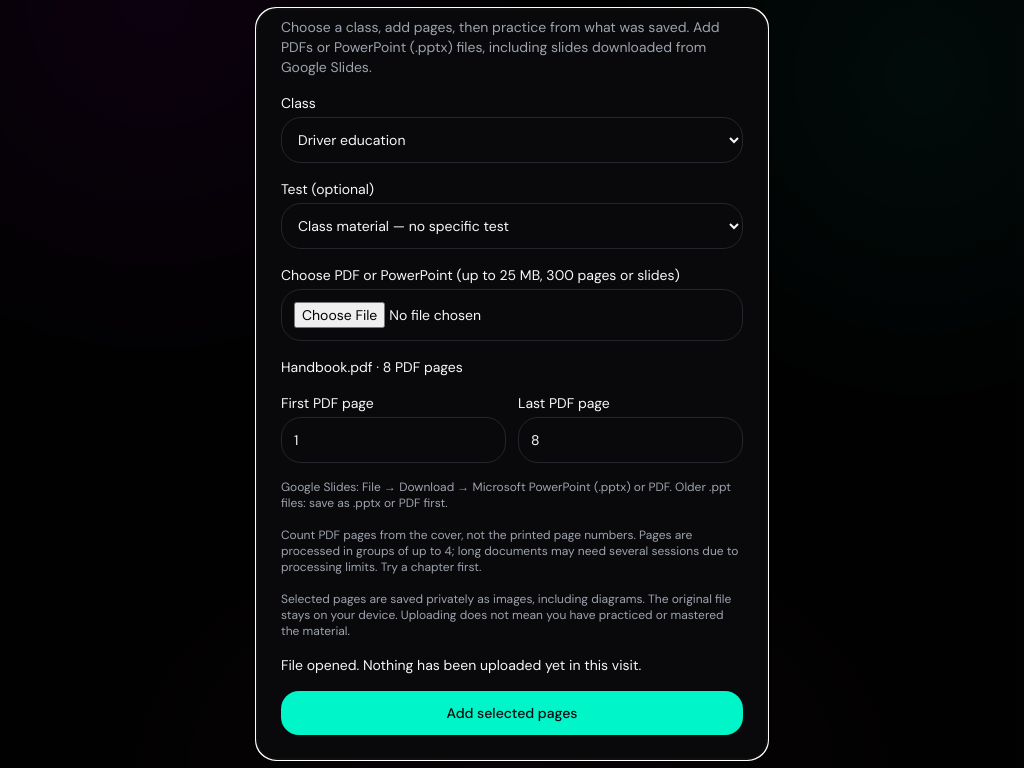
PDF study import UI › blocks leaving mid-batch and pauses without starting another batch
Earlier steps of the test are not shown.
(page scrolled)
Check: the text "Handbook.pdf · 8 PDF pages" is shown, box [281,358,463,376]
Step 1. Click the button "Add selected pages" → {"x": 512, "y": 713}, box [281,691,743,735]
(page scrolled)
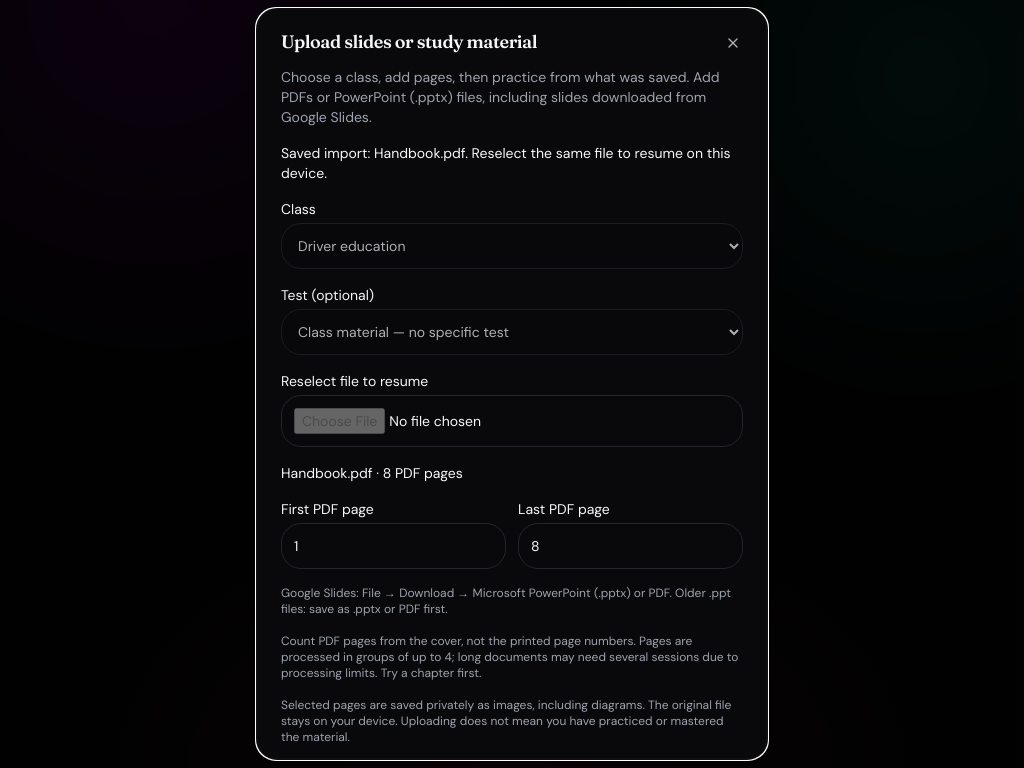
Step 2. Click the button named "Close" → {"x": 733, "y": 43}, box [711,21,755,65]
(page scrolled)
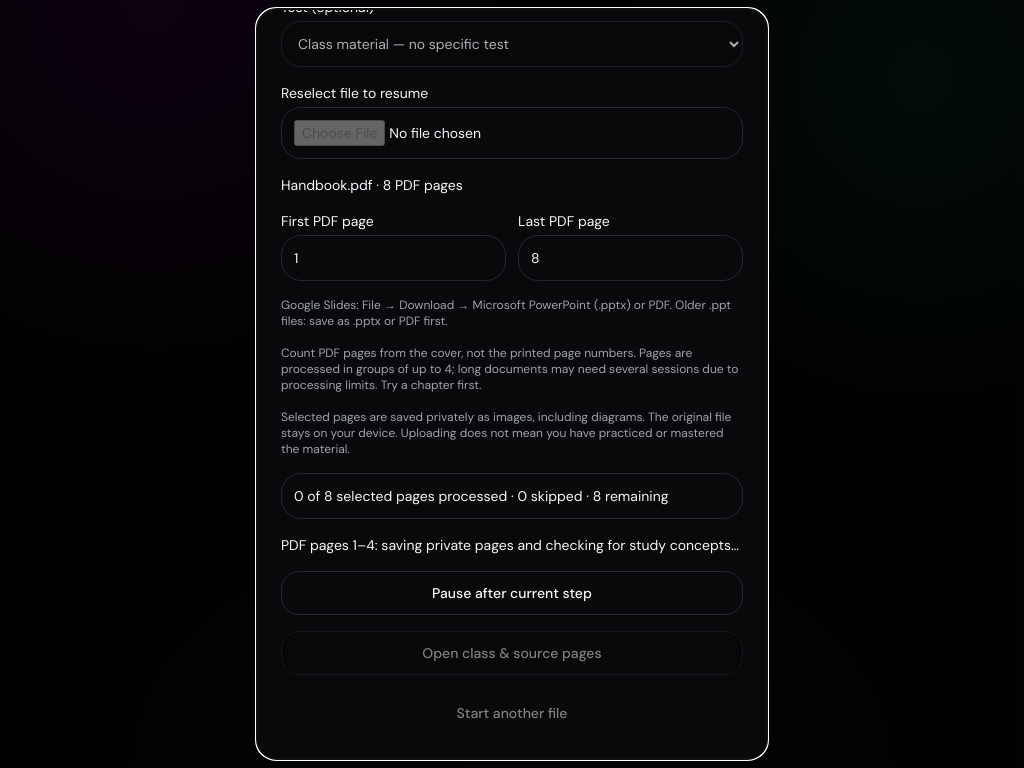
Step 3. Click the button "Pause after current step" → {"x": 512, "y": 593}, box [281,571,743,615]
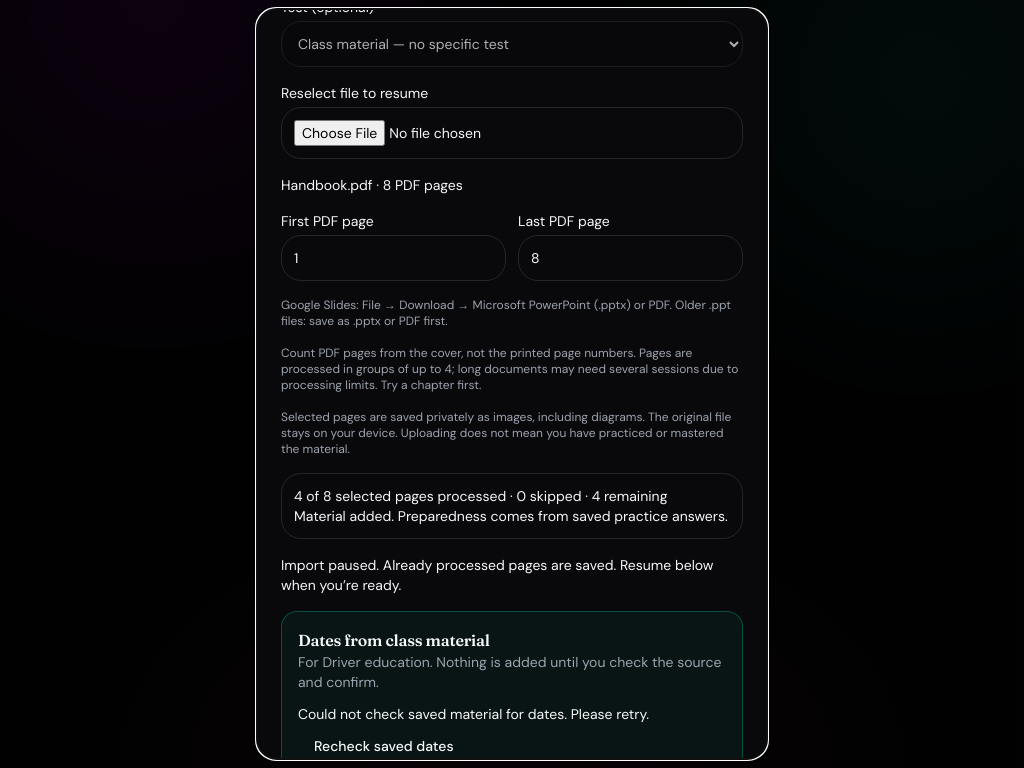
Check: the text "4 of 8 selected pages processed · 0 skipped · 4 remaining" is shown, box [294,486,730,506]
